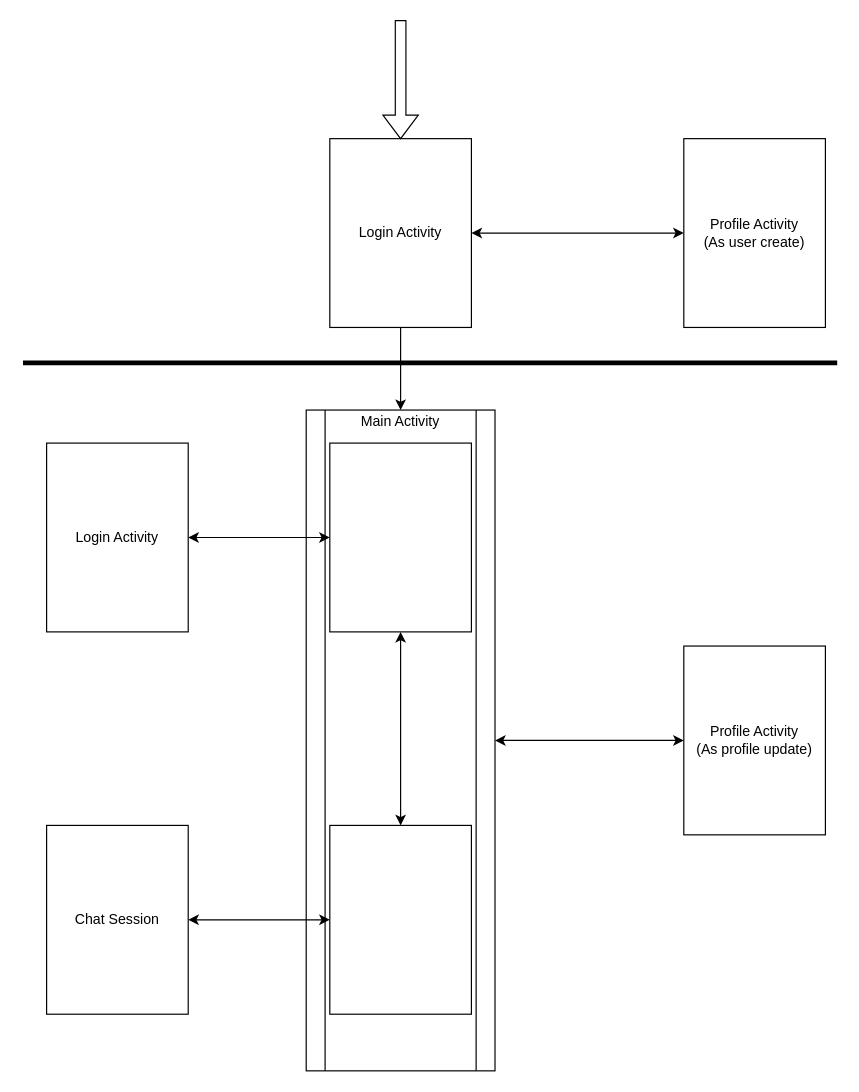
Image size: 859x1092. Some labels were removed from this diagram. The box of each missing label's shape, as (x1, y1, x2, y2) in pixels:
Chat List Fragment: (329, 824, 471, 1014)
Selection Fragment: (329, 442, 471, 632)
